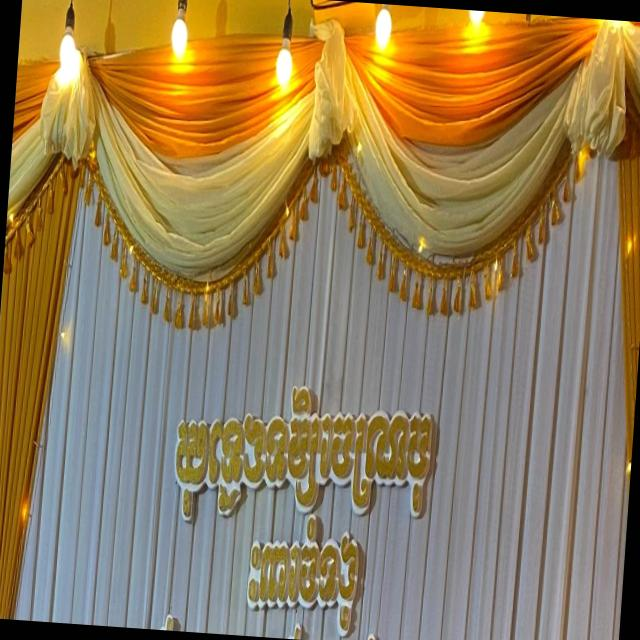Yolov11_80vkh: (171, 372, 441, 536), (241, 519, 364, 634)
